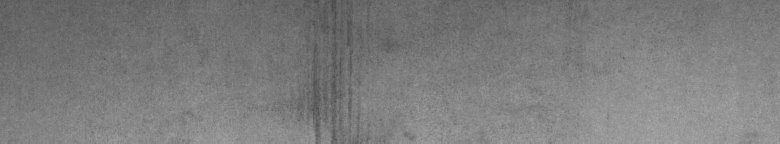ka: (266, 4, 359, 136)
